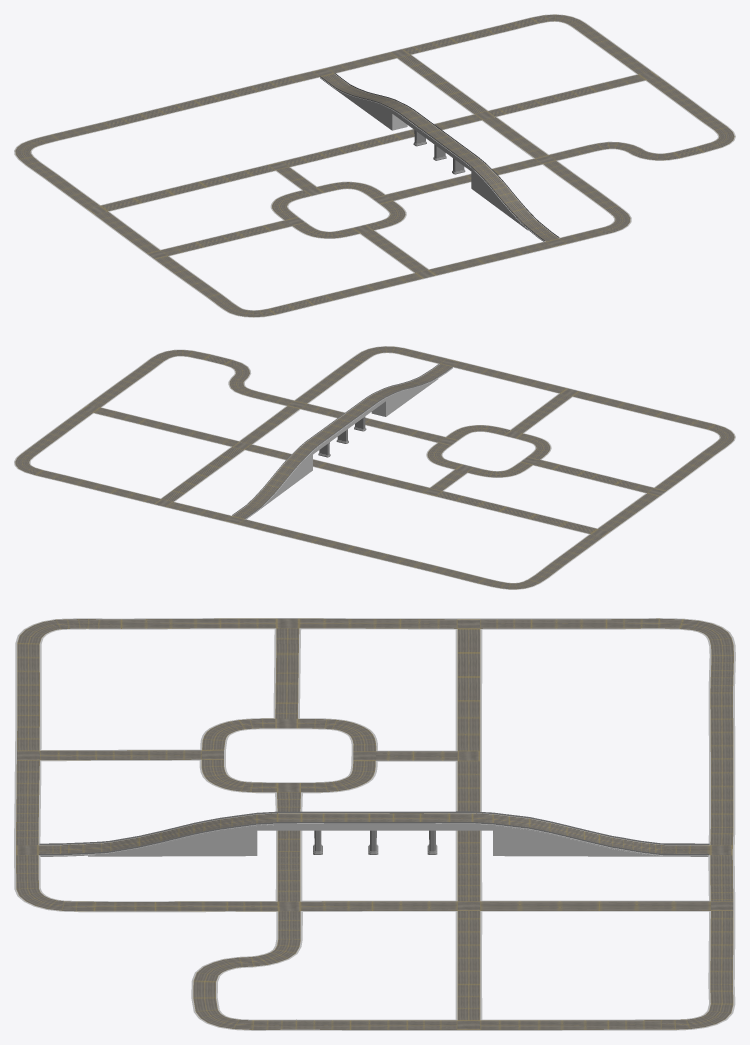
File: Street.FBX
The picture shows the model from 3 angles, top to bottom: view 1: azimuth 30°, elevation 25°; view 2: azimuth 150°, elevation 25°; view 3: azimuth 270°, elevation 25°; orthographic projection. The views are drawn at different scales.
Visible parts, largest first — view 1: Street, Bridge; view 2: Street, Bridge; view 3: Street, Bridge.
Part boxes in pixels (x1=…): Street: x1=14, y1=14, x2=735, y2=317; Bridge: x1=336, y1=90, x2=528, y2=230; Street: x1=14, y1=346, x2=735, y2=589; Bridge: x1=261, y1=379, x2=437, y2=508; Street: x1=14, y1=618, x2=735, y2=1030; Bridge: x1=88, y1=825, x2=662, y2=856.
Size of the model in its own units: 509 by 19.9 by 376.
